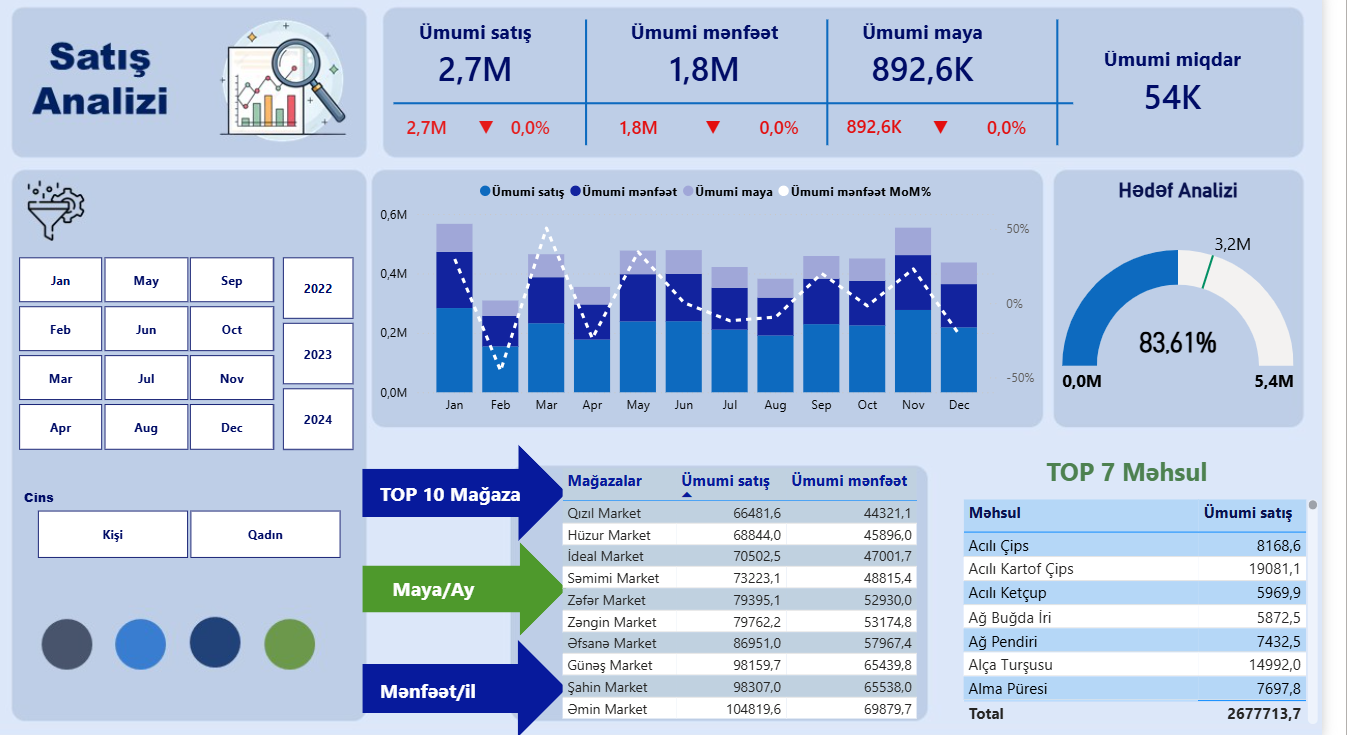

This screenshot's page, from the dashboard's own definition file:
{"tool":"powerbi","page":{"name":"Satış","canvas":[1280,720],"ordinal":0},"visuals":[{"type":"cardVisual","fields":{"Data":["Dax.Ümumi satış"]},"box":[377.3,13.3,170.7,93.3],"z":0},{"type":"cardVisual","fields":{"Data":["Dax.Ümumi mənfəət"]},"box":[581.3,13.3,205.3,93.3],"z":1000},{"type":"cardVisual","fields":{"Data":["Dax.Ümumi maya"]},"box":[802.7,13.3,184,93.3],"z":2000},{"type":"cardVisual","fields":{"Data":["Dax.Ümumi miqdar"]},"box":[1040,39.8,191.8,92.9],"z":3000},{"type":"shape","box":[383.6,90.5,656.3,33.8],"z":4000},{"type":"shape","box":[505.3,26.7,128,121.3],"z":5000},{"type":"shape","box":[738.7,26.7,128,121.3],"z":6000},{"type":"shape","box":[960,26.7,128,121.3],"z":7000},{"type":"slicer","fields":{"Values":["Tarix.Ay"]},"box":[0,252,288,193.3],"z":8000},{"type":"slicer","fields":{"Values":["Tarix.Il"]},"box":[254.7,252,110.7,193.3],"z":9000},{"type":"actionButton","box":[34.7,597.3,65.3,62.7],"z":10000},{"type":"actionButton","box":[110.7,597.3,65.3,62.7],"z":11000},{"type":"actionButton","box":[176,597.3,65.3,62.7],"z":12000},{"type":"actionButton","box":[245.3,597.3,65.3,62.7],"z":13000},{"type":"slicer","fields":{"Values":["Mağaza İşçiləri.Cins"]},"box":[18.7,476,334.7,73.3],"z":14000},{"type":"lineStackedColumnComboChart","fields":{"Category":["Tarix.Ay"],"Y":["Dax.Ümumi satış","Dax.Ümumi mənfəət","Dax.Ümumi maya"],"Y2":["Dax.Ümumi mənfəət MoM%"]},"box":[365.3,172,642.7,244],"z":15000},{"type":"gauge","title":"Hədəf Analizi","fields":{"TargetValue":["Dax.Ümumi stock satış"],"Y":["Dax.Ümumi satış"]},"box":[1024,178.7,233.3,237.3],"z":16000},{"type":"shape","box":[353.3,437.3,197.3,93.3],"z":17000},{"type":"shape","box":[353.3,530.7,197.3,90.7],"z":18000},{"type":"shape","box":[353.3,625.3,197.3,94.7],"z":19000},{"type":"textbox","box":[365.3,466.7,153.3,34.7],"z":20000},{"type":"textbox","box":[377.3,558.7,98.7,34.7],"z":21000},{"type":"textbox","box":[365.3,656,140,34.7],"z":22000},{"type":"cardVisual","fields":{"Data":["Dax.Ümumi satış MoM %"]},"box":[484,108,64,40],"z":24000},{"type":"cardVisual","fields":{"Data":["Dax.Ümumi mənfəət MoM%"]},"box":[724,108,64,40],"z":25000},{"type":"cardVisual","fields":{"Data":["Dax.Satis ikon"]},"box":[452,108,41.3,40],"z":26000},{"type":"cardVisual","fields":{"Data":["Dax.Keçən Ay Satış"]},"box":[384,108,64,40],"z":27000},{"type":"cardVisual","fields":{"Data":["Dax.menfeet ikon"]},"box":[660,108,64,40],"z":28000},{"type":"cardVisual","fields":{"Data":["Dax.Keçən Ay Mənfəət"]},"box":[581.3,108,78.7,40],"z":29000},{"type":"cardVisual","fields":{"Data":["Dax.Ümumi maya MoM%"]},"box":[944,108,64,40],"z":30000},{"type":"cardVisual","fields":{"Data":["Dax.Maya ikon"]},"box":[880,108,64,40],"z":31000},{"type":"cardVisual","fields":{"Data":["Dax.Keçən maya"]},"box":[816,102.7,64,50.7],"z":32000},{"type":"stackedAreaChart","fields":{"Category":["Tarix.Il"],"Y":["Dax.Ümumi mənfəət"]},"box":[536,453.3,344,246.7],"z":34000},{"type":"actionButton","box":[353.3,453.3,153.3,60],"z":35000},{"type":"actionButton","box":[360,549.3,153.3,60],"z":36000},{"type":"actionButton","box":[353.3,640,153.3,60],"z":37000},{"type":"tableEx","fields":{"Values":["Məhsullar.Məhsul","Dax.Ümumi satış"]},"box":[927.6,484.4,352.7,226.4],"z":38000},{"type":"textbox","box":[1008.6,441.9,177,49.4],"z":39000}]}

Visuals, with their boxes on the page's 1280x720 design canvas (x1, y1, x2, y2). These are canvas units, not pixel positions in the 1347x735 screenshot, which may show the page scaled, cropped or inside an application window:
cardVisual - Dax.Ümumi satış: 377:13:548:107
cardVisual - Dax.Ümumi mənfəət: 581:13:787:107
cardVisual - Dax.Ümumi maya: 803:13:987:107
cardVisual - Dax.Ümumi miqdar: 1040:40:1232:133
shape: 384:90:1040:124
shape: 505:27:633:148
shape: 739:27:867:148
shape: 960:27:1088:148
slicer - Tarix.Ay: 0:252:288:445
slicer - Tarix.Il: 255:252:365:445
actionButton: 35:597:100:660
actionButton: 111:597:176:660
actionButton: 176:597:241:660
actionButton: 245:597:311:660
slicer - Mağaza İşçiləri.Cins: 19:476:353:549
lineStackedColumnComboChart - Tarix.Ay x Dax.Ümumi satış: 365:172:1008:416
"Hədəf Analizi" gauge: 1024:179:1257:416
shape: 353:437:551:531
shape: 353:531:551:621
shape: 353:625:551:720
textbox: 365:467:519:501
textbox: 377:559:476:593
textbox: 365:656:505:691
cardVisual - Dax.Ümumi satış MoM %: 484:108:548:148
cardVisual - Dax.Ümumi mənfəət MoM%: 724:108:788:148
cardVisual - Dax.Satis ikon: 452:108:493:148
cardVisual - Dax.Keçən Ay Satış: 384:108:448:148
cardVisual - Dax.menfeet ikon: 660:108:724:148
cardVisual - Dax.Keçən Ay Mənfəət: 581:108:660:148
cardVisual - Dax.Ümumi maya MoM%: 944:108:1008:148
cardVisual - Dax.Maya ikon: 880:108:944:148
cardVisual - Dax.Keçən maya: 816:103:880:153
stackedAreaChart - Tarix.Il x Dax.Ümumi mənfəət: 536:453:880:700
actionButton: 353:453:507:513
actionButton: 360:549:513:609
actionButton: 353:640:507:700
tableEx - Məhsullar.Məhsul x Dax.Ümumi satış: 928:484:1280:711
textbox: 1009:442:1186:491
